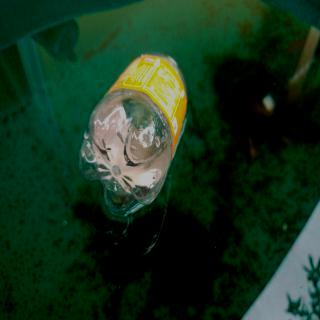bottle: (74, 50, 192, 220)
